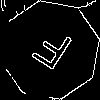F: (25, 25, 75, 80)
